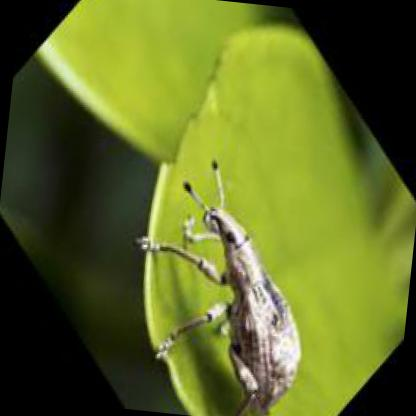ash weevil: (139, 165, 302, 416)
